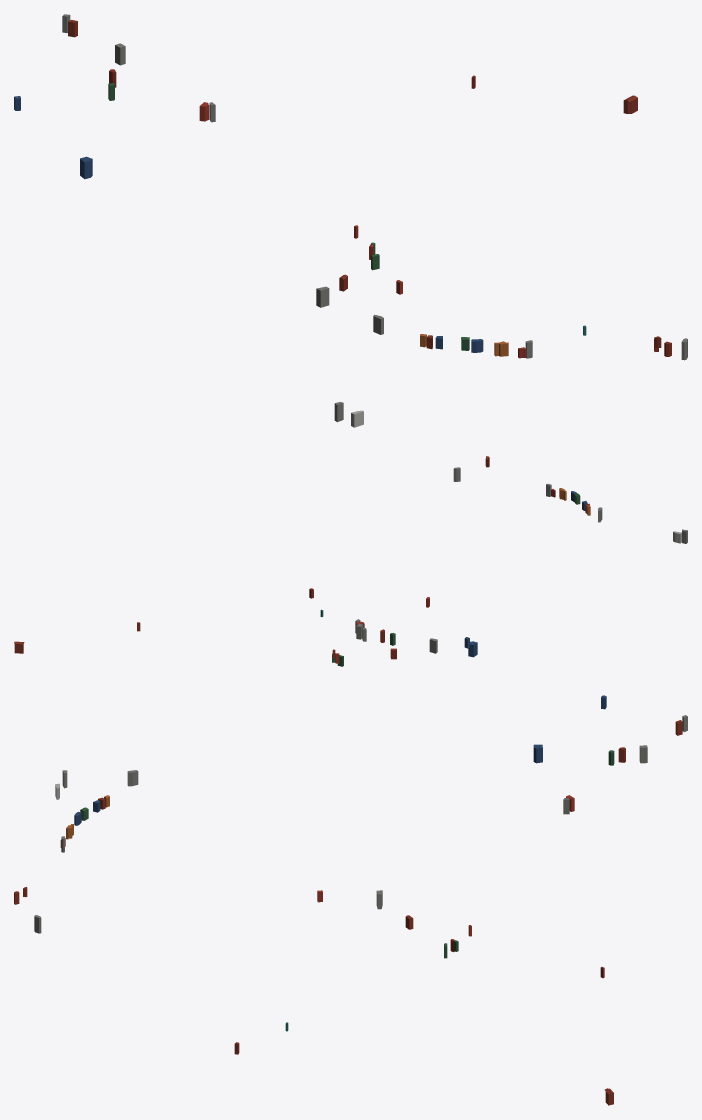
The model's file is near-15-27365-14863.2b519db5.glb.
The picture shows the model from 3 angles, top to bottom: view 1: azimuth 30°, elevation 25°; view 2: azimuth 150°, elevation 25°; view 3: azimuth 270°, elevation 25°; orthographic projection. The views are drawn at different scales.
Bounding box in the file's own units: 950 × 330 × 1022.
